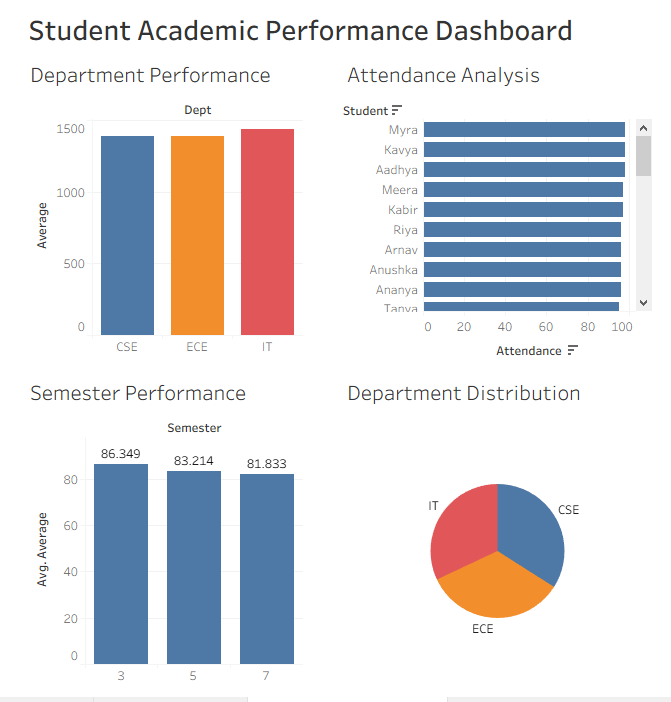

The dashboard page shown, as its layout file describes it:
{"tool":"tableau","page":{"name":"Student Academic Performance Dashboard","canvas":[1000,1000],"units":"permille","ordinal":0},"visuals":[{"type":"title","box":[12.3,14.3,975.4,80.4]},{"type":"worksheet","title":"Department Performance","mark":"Automatic","rows":["Average"],"cols":["Dept"],"box":[12.3,94.7,438.5,445.5]},{"type":"blank","box":[450.8,94.7,49.2,891.1]},{"type":"worksheet","title":"Attendance Analysis","mark":"Automatic","rows":["Student"],"cols":["Attendance"],"box":[500,94.7,487.7,445.5]},{"type":"worksheet","title":"Semester Performance","mark":"Automatic","rows":["Average"],"cols":["Semester"],"box":[12.3,540.1,438.5,445.6]},{"type":"worksheet","title":"Department Distribution","mark":"Pie","box":[500,540.1,487.7,445.6]}]}

Visuals, with their boxes on the dashboard's canvas, which has no fixed pixel size, in thousandths of its width and height (x1, y1, x2, y2). These are canvas units, not pixel positions in the 671x702 screenshot, which may show the page scaled, cropped or inside an application window:
title: <box>12,14,988,95</box>
"Department Performance" worksheet: <box>12,95,451,540</box>
blank: <box>451,95,500,986</box>
"Attendance Analysis" worksheet: <box>500,95,988,540</box>
"Semester Performance" worksheet: <box>12,540,451,986</box>
"Department Distribution" worksheet (Pie marks): <box>500,540,988,986</box>
